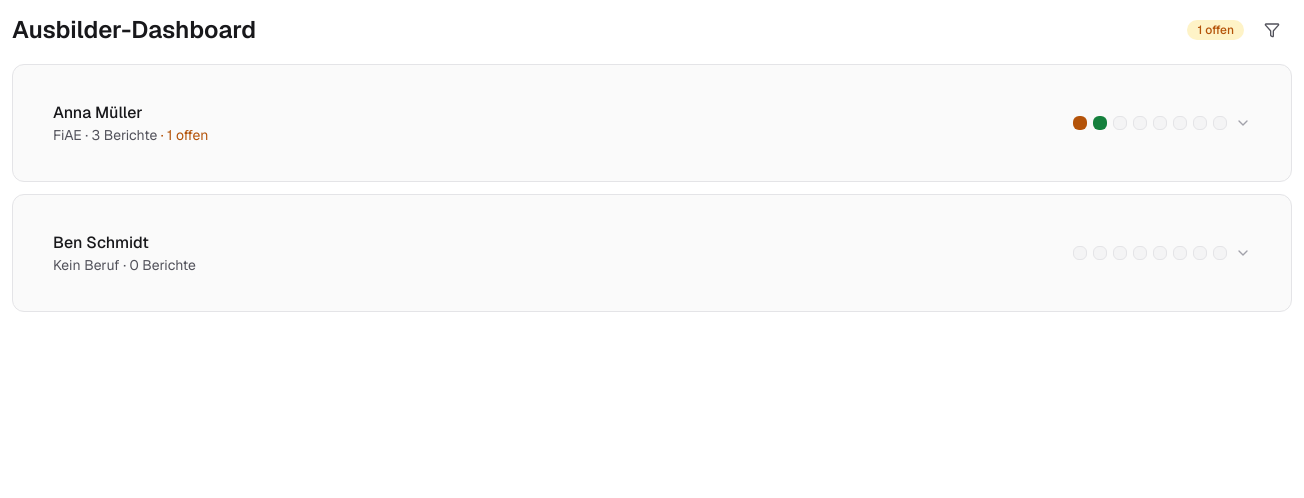
Scenario: ReviewerDashboardClient › collapses trainee on second click
What coordinates should you click on to do the following:
click the text "Anna Müller"
I would click on:
 (98, 112)
Its box is left=53, top=102, right=142, bottom=123.
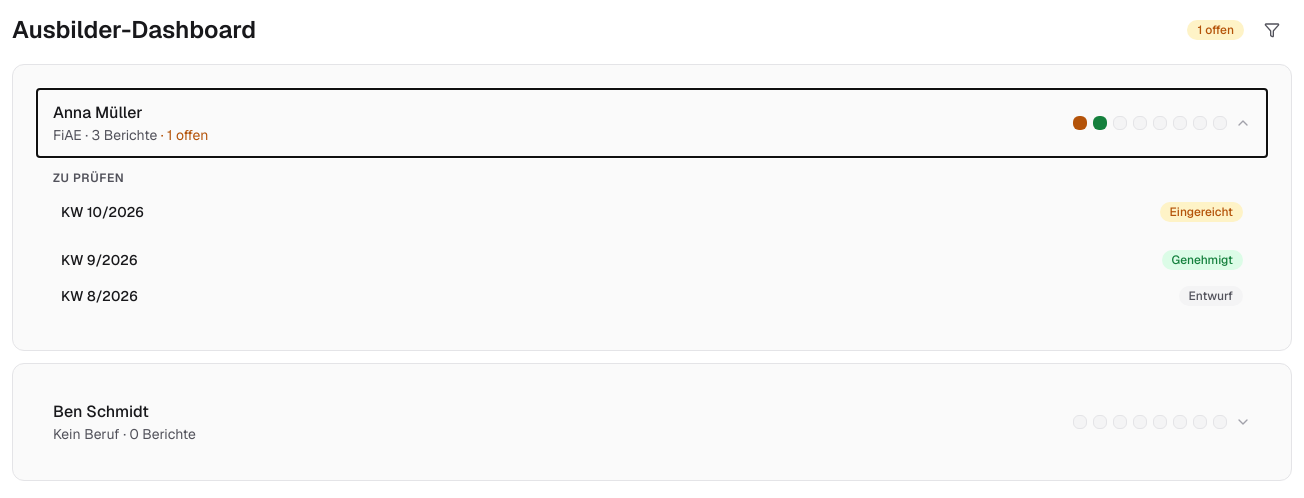
expect the text "Zu prüfen" is shown: met, box left=53, top=170, right=124, bottom=186
What coordinates should you click on to do the following:
click the text "Anna Müller"
I would click on:
 (98, 112)
Its box is left=53, top=102, right=142, bottom=123.
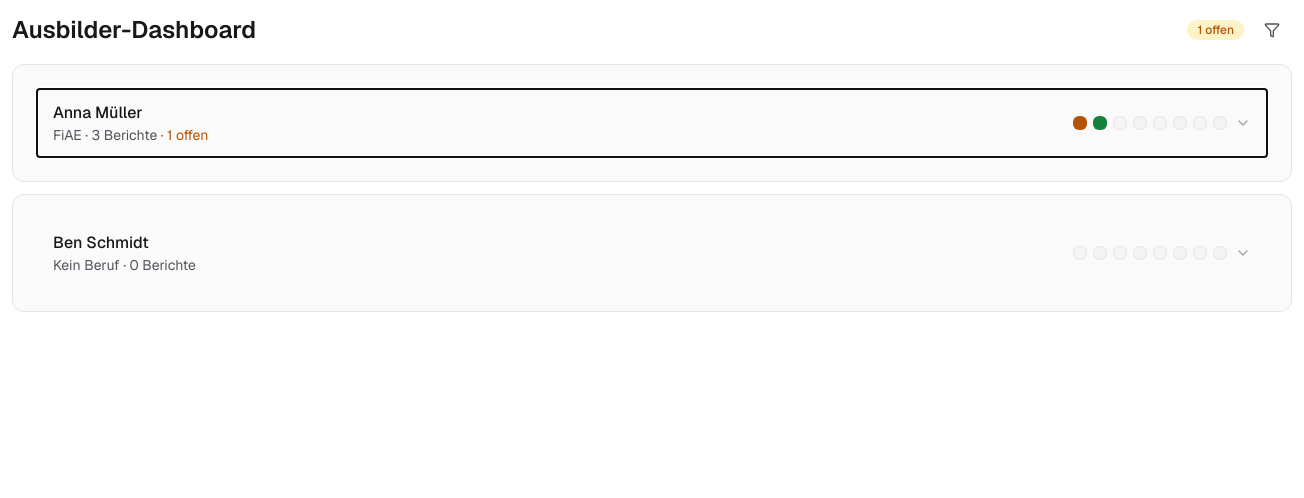
expect the text "Zu prüfen" is gone: met
